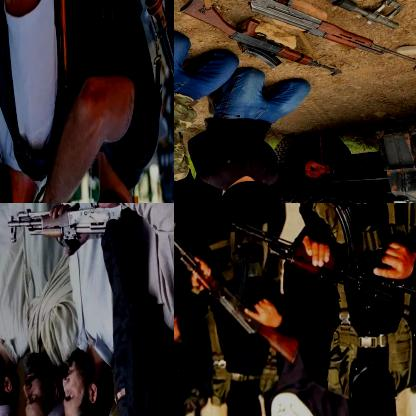rifle: (227, 203, 415, 319), (174, 219, 301, 366), (182, 0, 415, 73), (174, 0, 343, 80), (47, 0, 81, 202), (137, 0, 173, 181), (3, 203, 129, 245), (269, 0, 412, 29)
